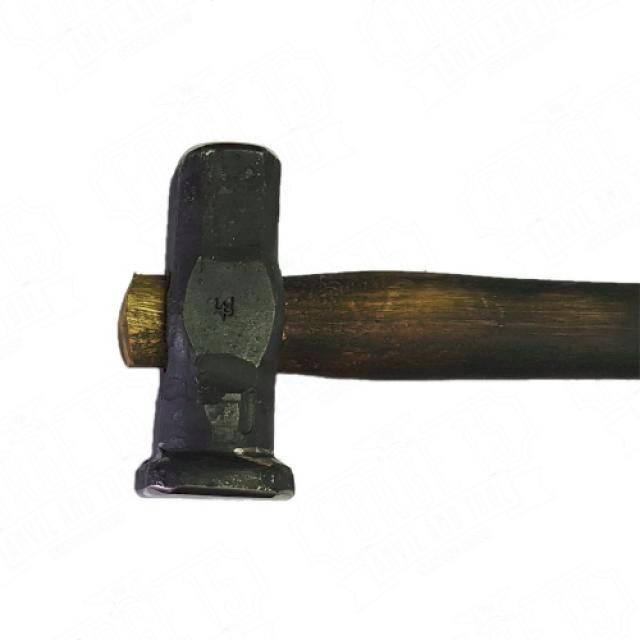hammer: (102, 135, 640, 510)
